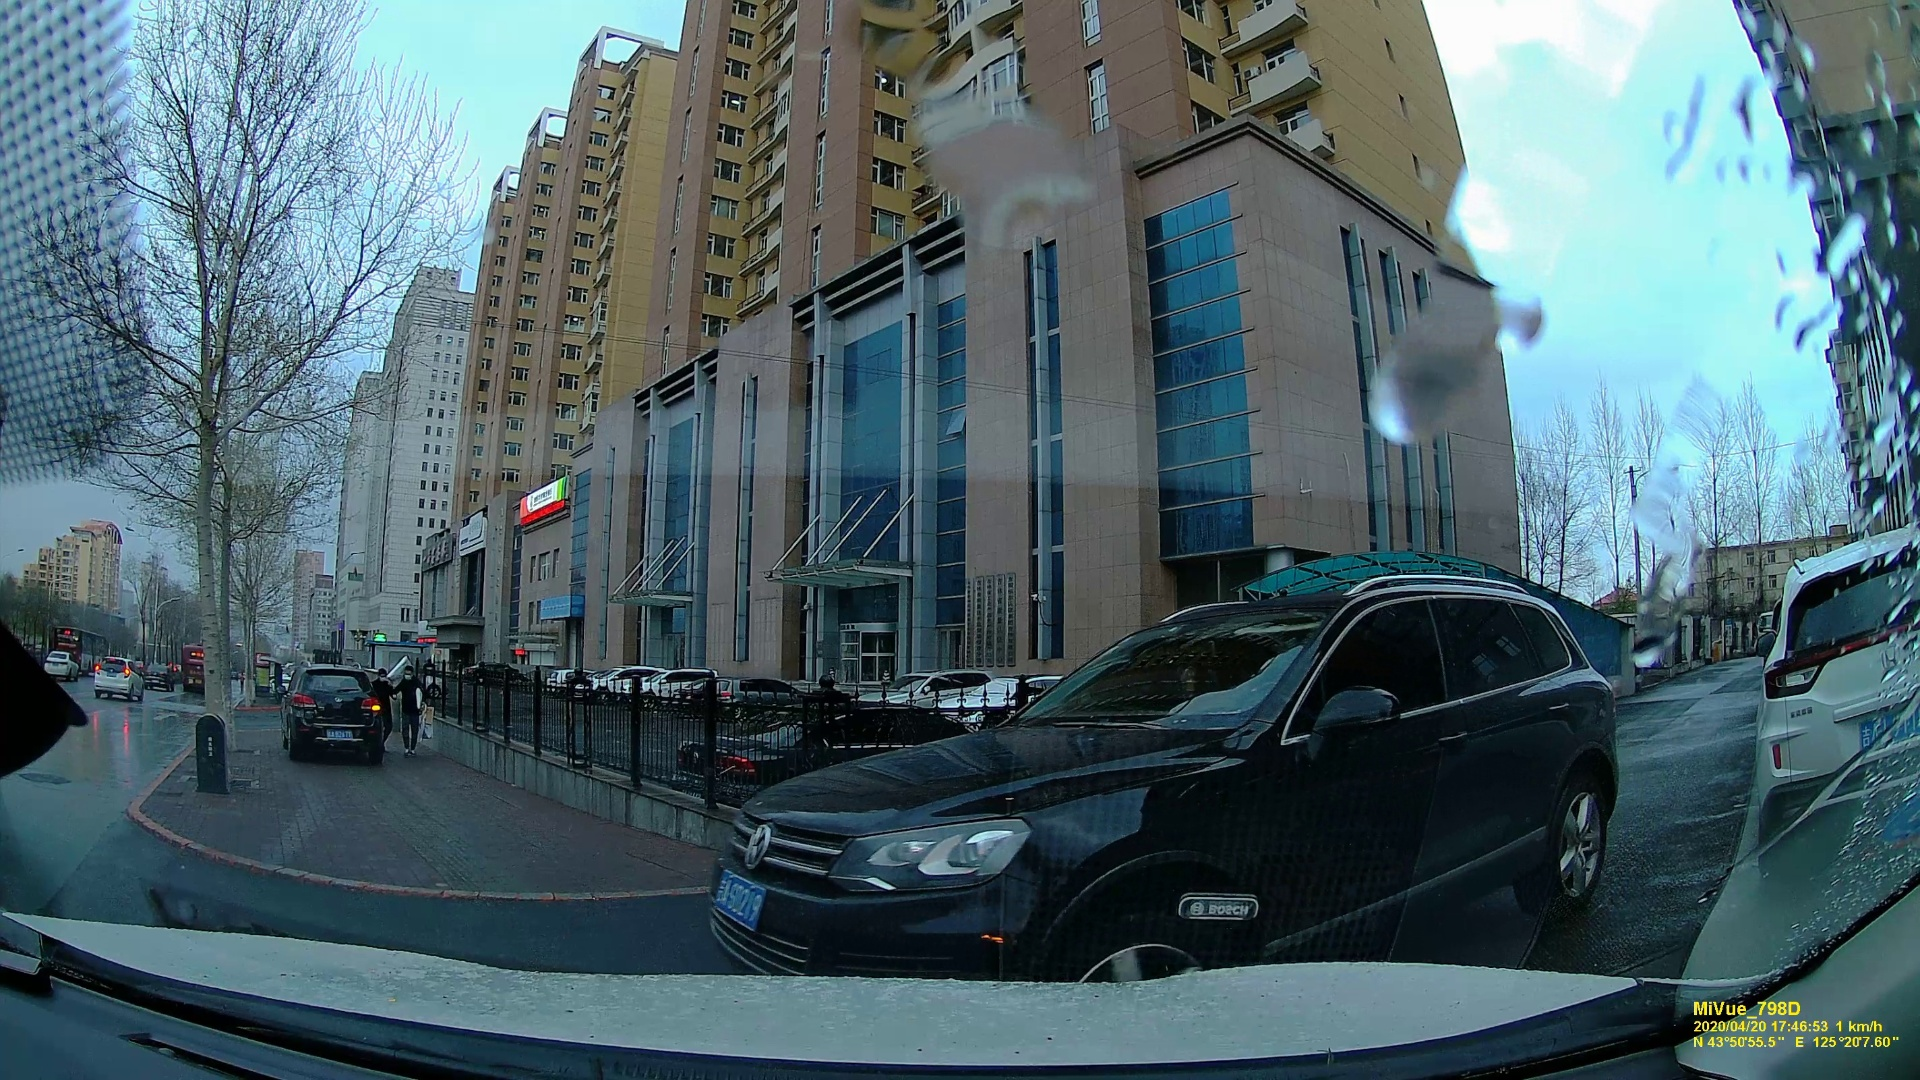person: (393, 665, 422, 754)
vehicle: (708, 574, 1622, 974), (274, 663, 388, 763), (94, 657, 144, 702)
